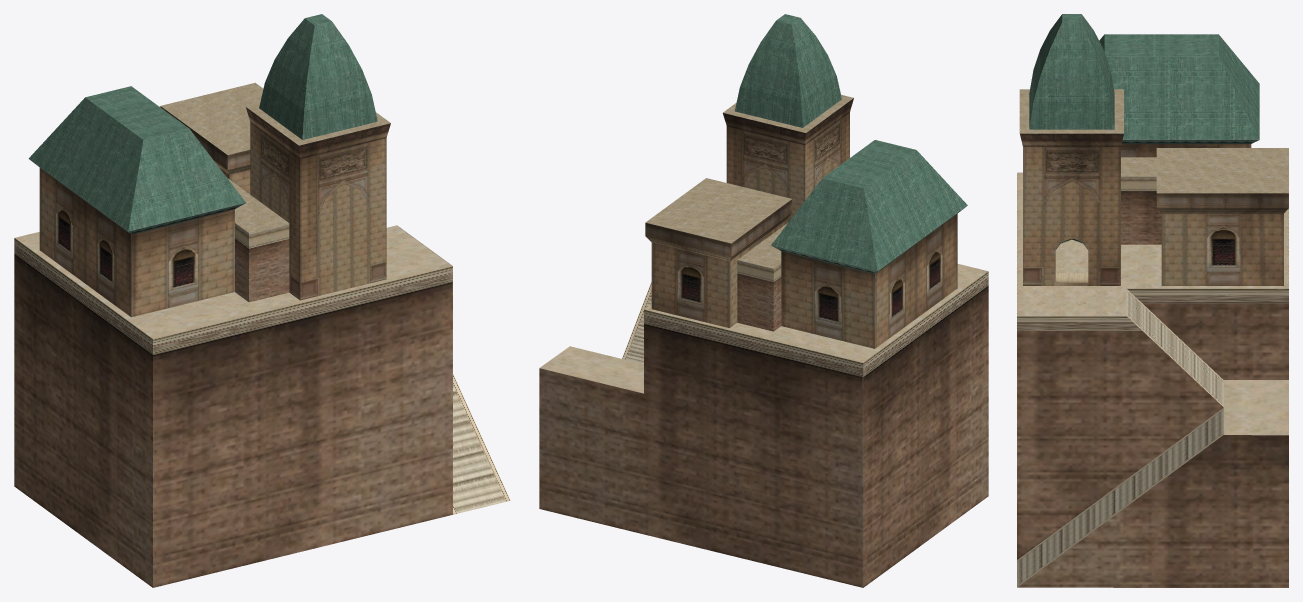
File: ply_nboo_house_sm_s02_fp1_r0_mesh_l2.fbx
3 renders of one model, left to right at view 1: azimuth 30°, elevation 25°; view 2: azimuth 150°, elevation 25°; view 3: azimuth 270°, elevation 25°, orthographic. The views are drawn at different scales.
Visible parts, largest first — view 1: mesh_node; view 2: mesh_node; view 3: mesh_node.
Part boxes in pixels (left/top/right/bottom): mesh_node: left=14, top=14, right=510, bottom=587; mesh_node: left=539, top=14, right=988, bottom=587; mesh_node: left=1017, top=14, right=1288, bottom=587.
Size of the model in its own units: 24.94 by 33.22 by 16.67.
